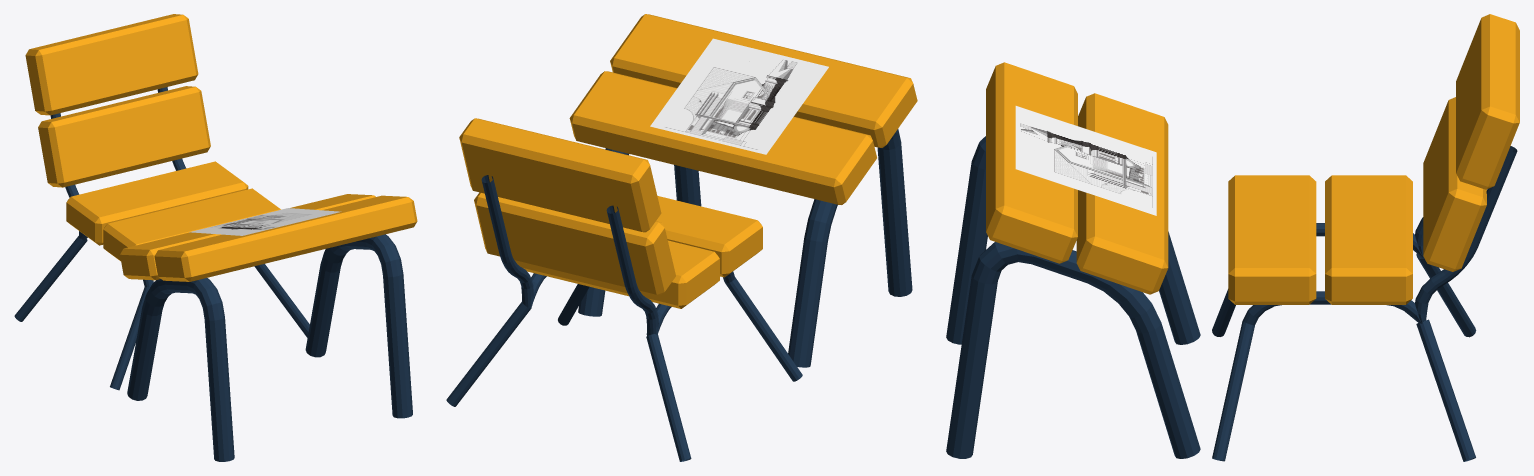
Rendered from desk_designer.fbx.
3 renders of one model, left to right at view 1: azimuth 30°, elevation 25°; view 2: azimuth 150°, elevation 25°; view 3: azimuth 270°, elevation 25°, orthographic. The views are drawn at different scales.
Visible parts, largest first — view 1: Cube.003, Plane.001, Cube.004, Cube.002, Plane, Plane.002; view 2: Cube.004, Cube.003, Plane.002, Plane.001, Plane, Cube.002; view 3: Cube.004, Cube.002, Plane.001, Cube.003, Plane.002, Plane.
Part boxes in pixels (x1,y1,x2,y2): Cube.003: [25, 14, 210, 187]; Plane.001: [127, 234, 412, 461]; Cube.004: [120, 194, 417, 281]; Cube.002: [66, 161, 280, 261]; Plane: [14, 87, 309, 390]; Plane.002: [189, 208, 341, 235]; Cube.004: [569, 14, 917, 204]; Cube.003: [459, 118, 675, 295]; Plane.002: [650, 38, 828, 154]; Plane.001: [578, 129, 912, 367]; Plane: [446, 175, 802, 461]; Cube.002: [514, 196, 762, 308]; Cube.004: [986, 62, 1168, 294]; Cube.002: [1228, 175, 1412, 304]; Plane.001: [946, 136, 1200, 458]; Cube.003: [1423, 14, 1519, 271]; Plane.002: [1015, 106, 1156, 215]; Plane: [1212, 146, 1517, 461].
Size of the model in its own units: 261 by 277 by 425.
